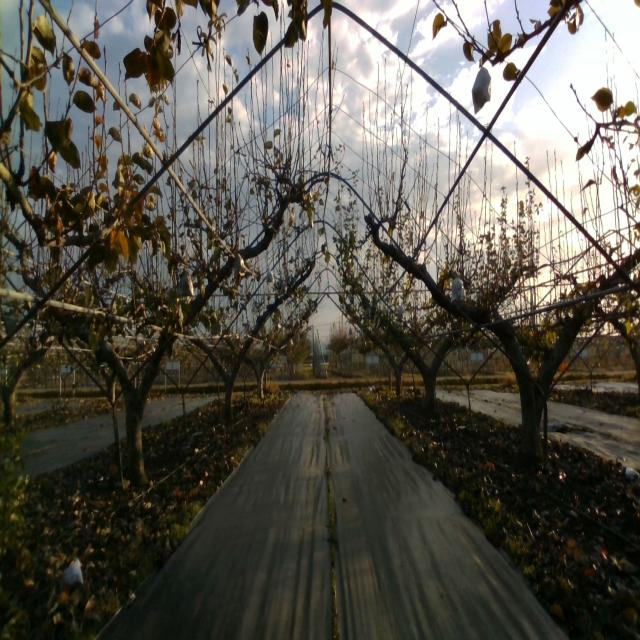pearbags: (472, 58, 491, 113), (176, 272, 195, 298), (450, 277, 467, 304), (232, 252, 245, 279)
